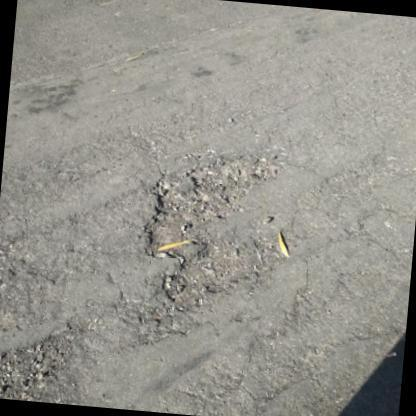pothole: (141, 146, 276, 317), (0, 319, 95, 398)
